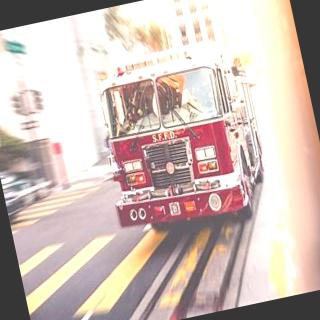Fire_truck: (84, 31, 280, 243)
